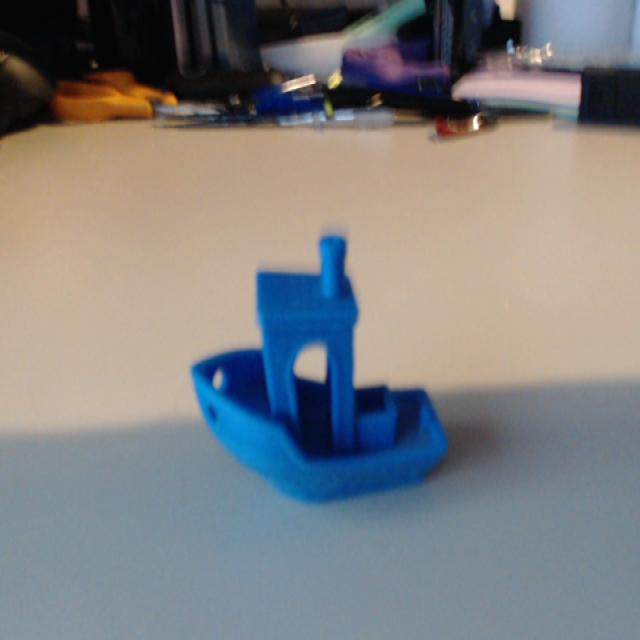benchy: (187, 230, 451, 506)
